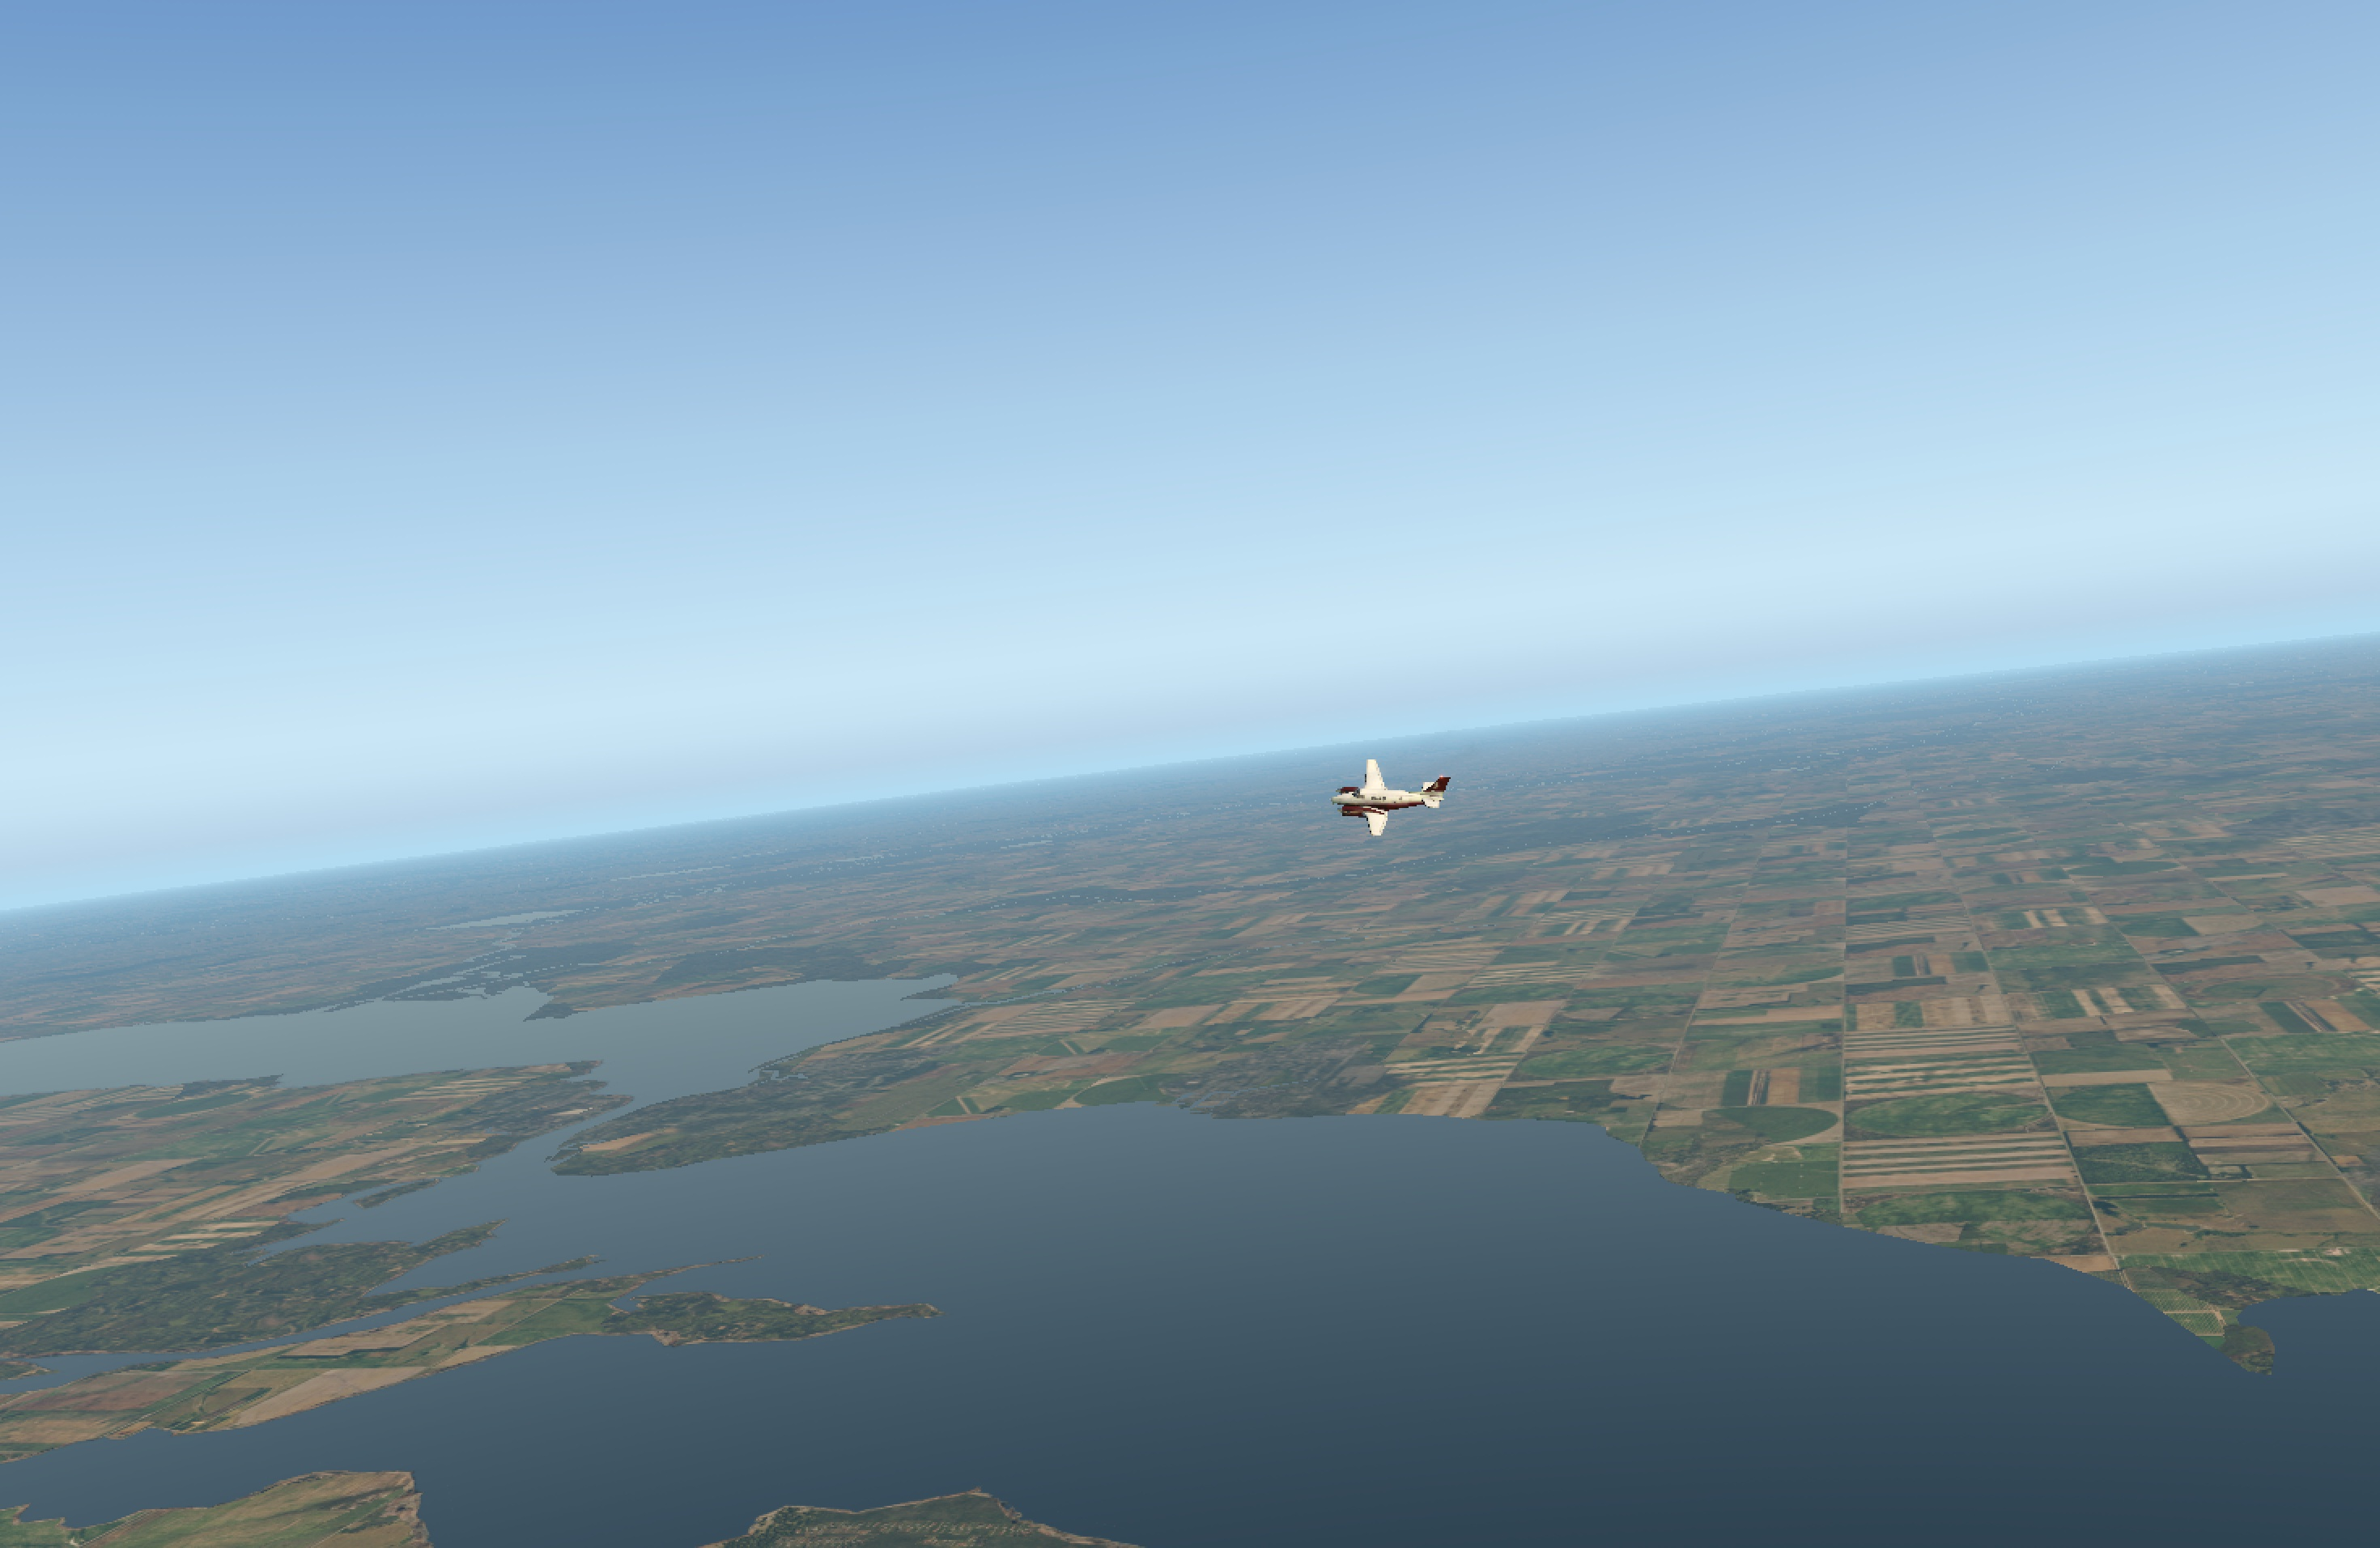aircraft: (1283, 773, 1453, 837)
